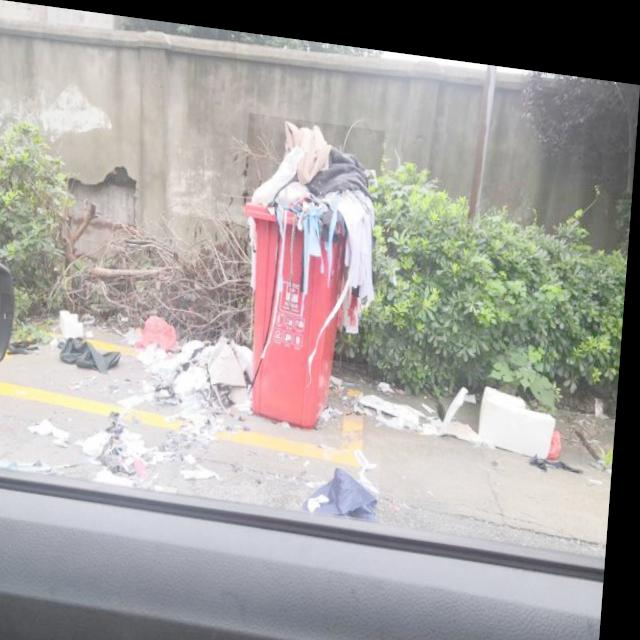garbage: (0, 292, 258, 497), (323, 350, 592, 460), (307, 435, 388, 511)
overflow: (233, 106, 386, 425)
